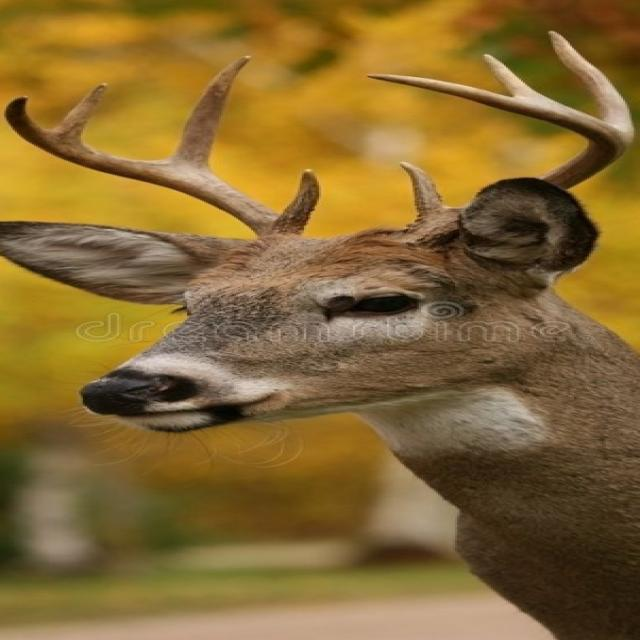L-G1: (396, 160, 448, 218)
L-G2: (545, 29, 637, 136)
L-G3: (481, 53, 554, 99)
R-F: (3, 96, 305, 237)
R-G1: (281, 168, 322, 227)
R-G2: (158, 54, 254, 174)
R-G3: (52, 81, 112, 140)
